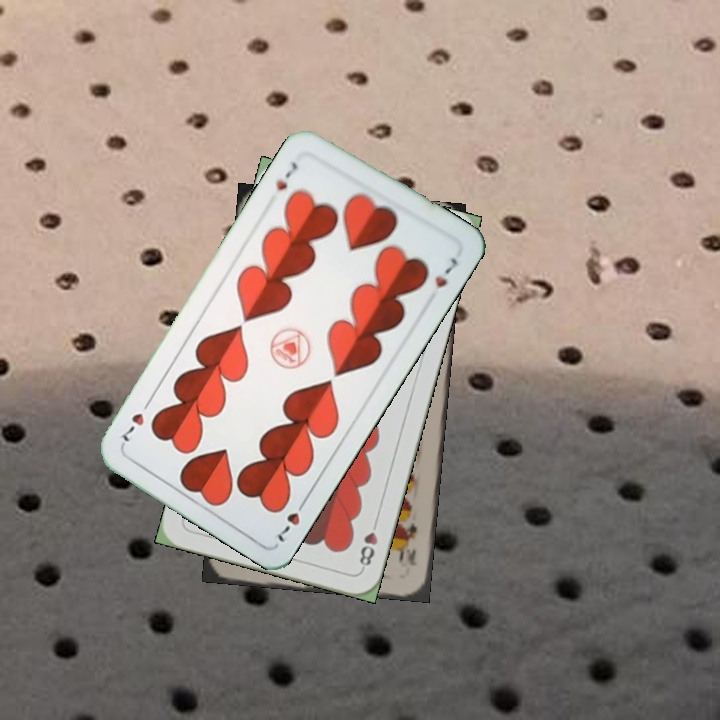E10: (397, 518, 419, 569)
H7: (270, 493, 310, 545), (271, 157, 301, 193)
H8: (355, 514, 381, 573)
